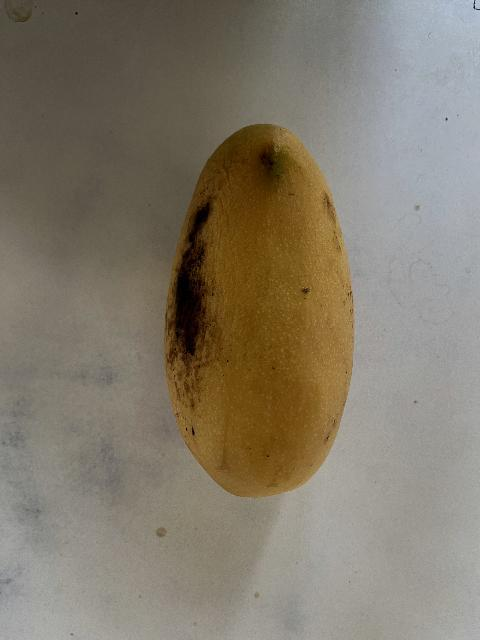Mango Overripe: (137, 75, 377, 488)
